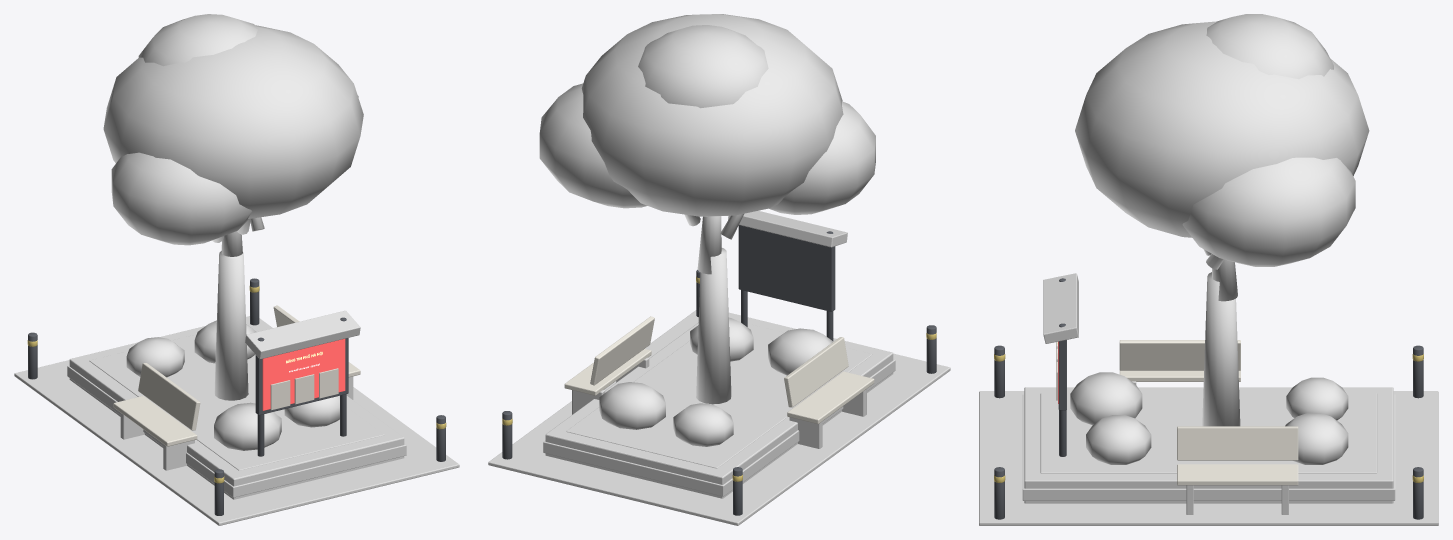
File: SM_Hanoi_CenterIsland.fbx
The picture shows the model from 3 angles, left to right: view 1: azimuth 30°, elevation 25°; view 2: azimuth 150°, elevation 25°; view 3: azimuth 270°, elevation 25°; orthographic projection. The views are drawn at different scales.
Visible parts, largest first — view 1: TreeCanopy_Main, Island_Apron, TreeCanopy_L, Island_Soil, Island_Curb, Trunk_Low, TreeCanopy_Top, Island_BrickBand, Board_Backing, Board_Roof, Bush_0, BackSlab (+9 smaller); view 2: TreeCanopy_Main, Island_Apron, Island_Soil, TreeCanopy_Top, Island_Curb, Board_Frame, TreeCanopy_R, TreeCanopy_L, Trunk_Low, Island_BrickBand, Bush_3, BackSlab (+9 smaller); view 3: TreeCanopy_Main, Island_Apron, TreeCanopy_R, Island_Soil, Island_Curb, TreeCanopy_Top, Island_BrickBand, Trunk_Low, BackSlab.001, Bush_0, BackSlab, SeatSlab.001 (+7 smaller).
Boxes of the visible parts, x1,y1,x2,y2 form: TreeCanopy_Main: [103, 25, 363, 218]; Island_Apron: [14, 316, 459, 525]; TreeCanopy_L: [111, 152, 251, 245]; Island_Soil: [89, 334, 384, 470]; Island_Curb: [69, 322, 404, 499]; Trunk_Low: [214, 251, 248, 400]; TreeCanopy_Top: [138, 14, 257, 66]; Island_BrickBand: [67, 365, 406, 497]; Board_Backing: [262, 339, 345, 410]; Board_Roof: [245, 310, 360, 359]; Bush_0: [214, 402, 281, 450]; BackSlab: [138, 363, 200, 430]; TreeCanopy_Main: [581, 14, 843, 216]; Island_Apron: [488, 310, 950, 525]; Island_Soil: [566, 322, 872, 468]; TreeCanopy_Top: [638, 25, 768, 108]; Island_Curb: [545, 312, 893, 498]; Board_Frame: [738, 225, 835, 311]; TreeCanopy_R: [539, 83, 647, 208]; TreeCanopy_L: [769, 101, 875, 214]; Trunk_Low: [696, 248, 731, 404]; Island_BrickBand: [543, 359, 895, 496]; Bush_3: [599, 382, 665, 429]; BackSlab: [784, 337, 848, 407]; TreeCanopy_Main: [1075, 21, 1369, 237]; Island_Apron: [979, 391, 1438, 525]; TreeCanopy_R: [1182, 157, 1355, 266]; Island_Soil: [1040, 393, 1377, 473]; Island_Curb: [1024, 387, 1393, 503]; TreeCanopy_Top: [1206, 14, 1333, 79]; Island_BrickBand: [1022, 394, 1395, 500]; Trunk_Low: [1202, 272, 1240, 426]; BackSlab.001: [1177, 426, 1298, 460]; Bush_0: [1070, 372, 1142, 425]; BackSlab: [1119, 340, 1240, 370]; SeatSlab.001: [1177, 464, 1298, 485].
Bounding box in the file's own units: 4.19 × 5.82 × 5.6.
